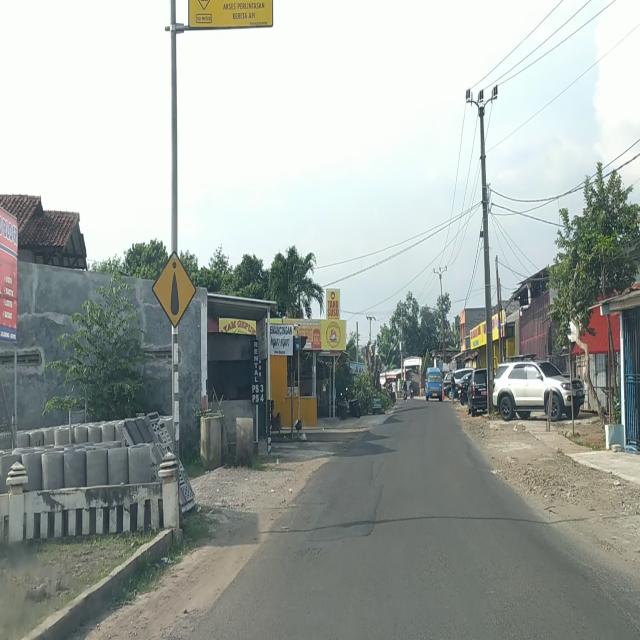Drain Hole: (294, 542, 321, 566)
